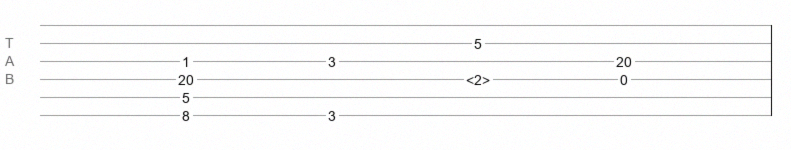0: (620, 72, 628, 82)
1: (182, 54, 190, 64)
20: (178, 72, 194, 82), (616, 54, 632, 64)
3: (328, 54, 336, 64), (328, 108, 336, 118)
5: (182, 90, 190, 100), (474, 36, 482, 46)
8: (182, 108, 190, 118)
harmonic: (466, 72, 490, 82)
